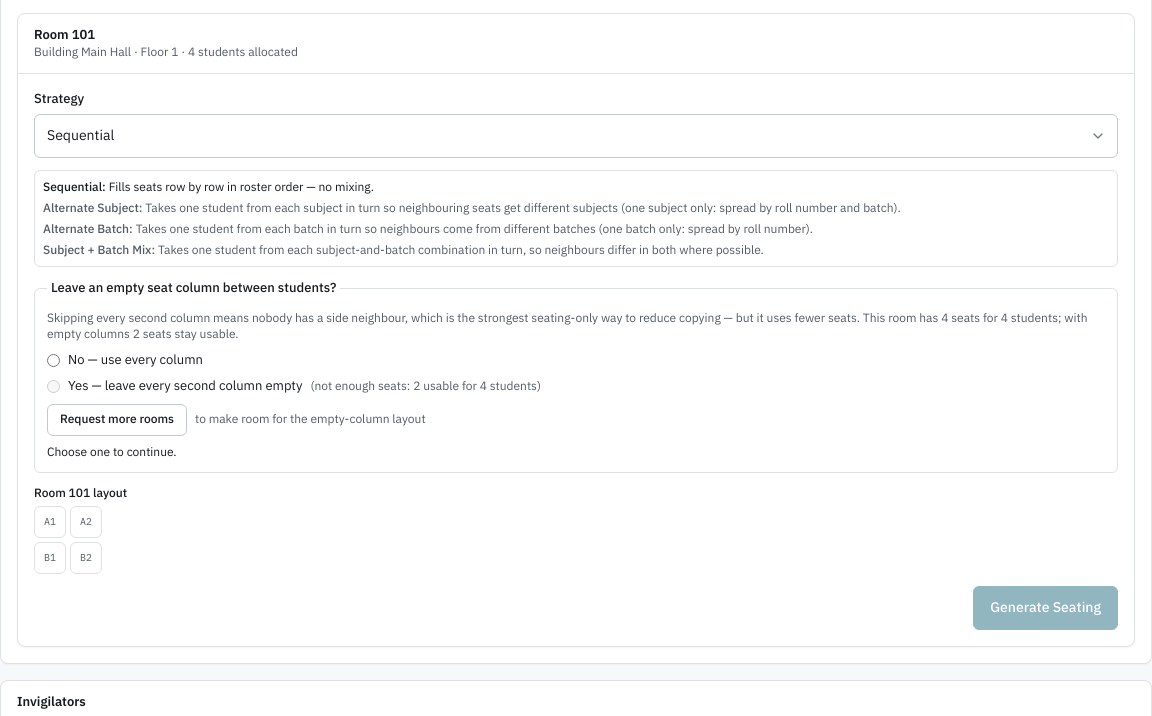
Scenario: Seating — empty-column question and room layout › shows the room name and layout before generating, and blocks Generate until the empty-column question is answered
The image size is (1152, 716).
(page scrolled)
expect the text "Room 101 layout" is shown: met, box [34,485,127,500]
expect the text "Leave an empty seat column between students?" is shown: met, box [47,279,340,298]
Click the radio button labelled "No — use every column".
click(54, 360)  # box [47,354,60,367]
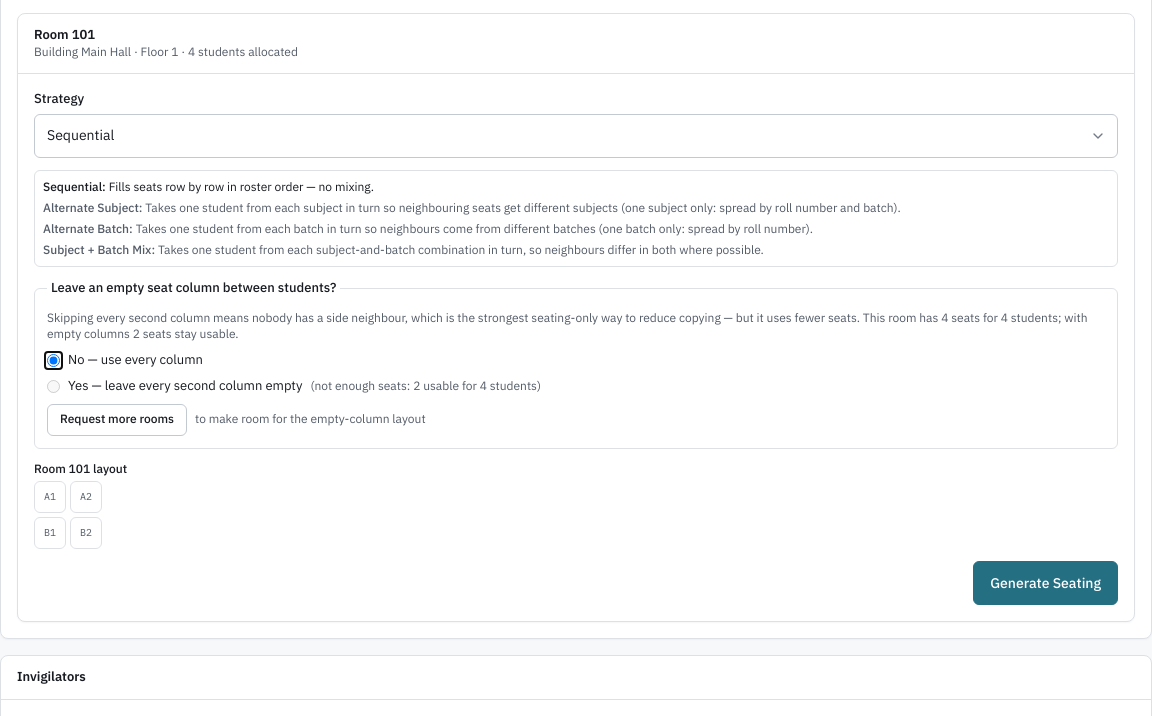
expect the button "Generate Seating" is enabled: met, box [973,561,1118,605]
